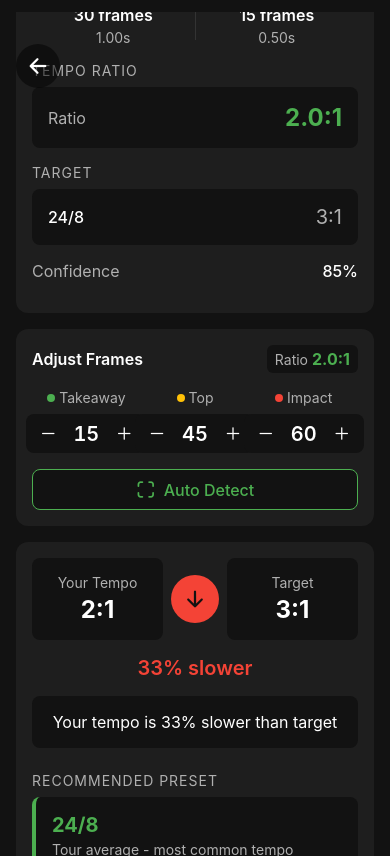
Test case: AnalysisScreen › manual frame adjustment › should enable save button after manual adjustment
The image size is (390, 856).
(page scrolled)
Expected: the element with test id "frame-adjuster" is shown, [16,329,374,526]
Click the button with test id "takeaway-increment" at [124, 434], box [106,414,142,453]
(page scrolled)
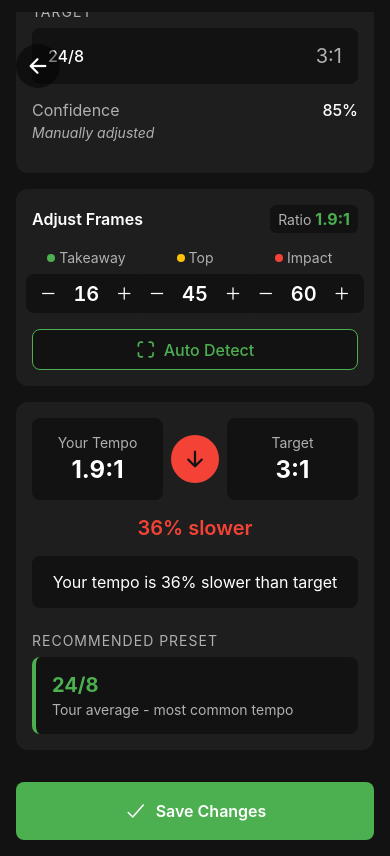
Result: the button with test id "save-button" is enabled at [16,782,374,840]
